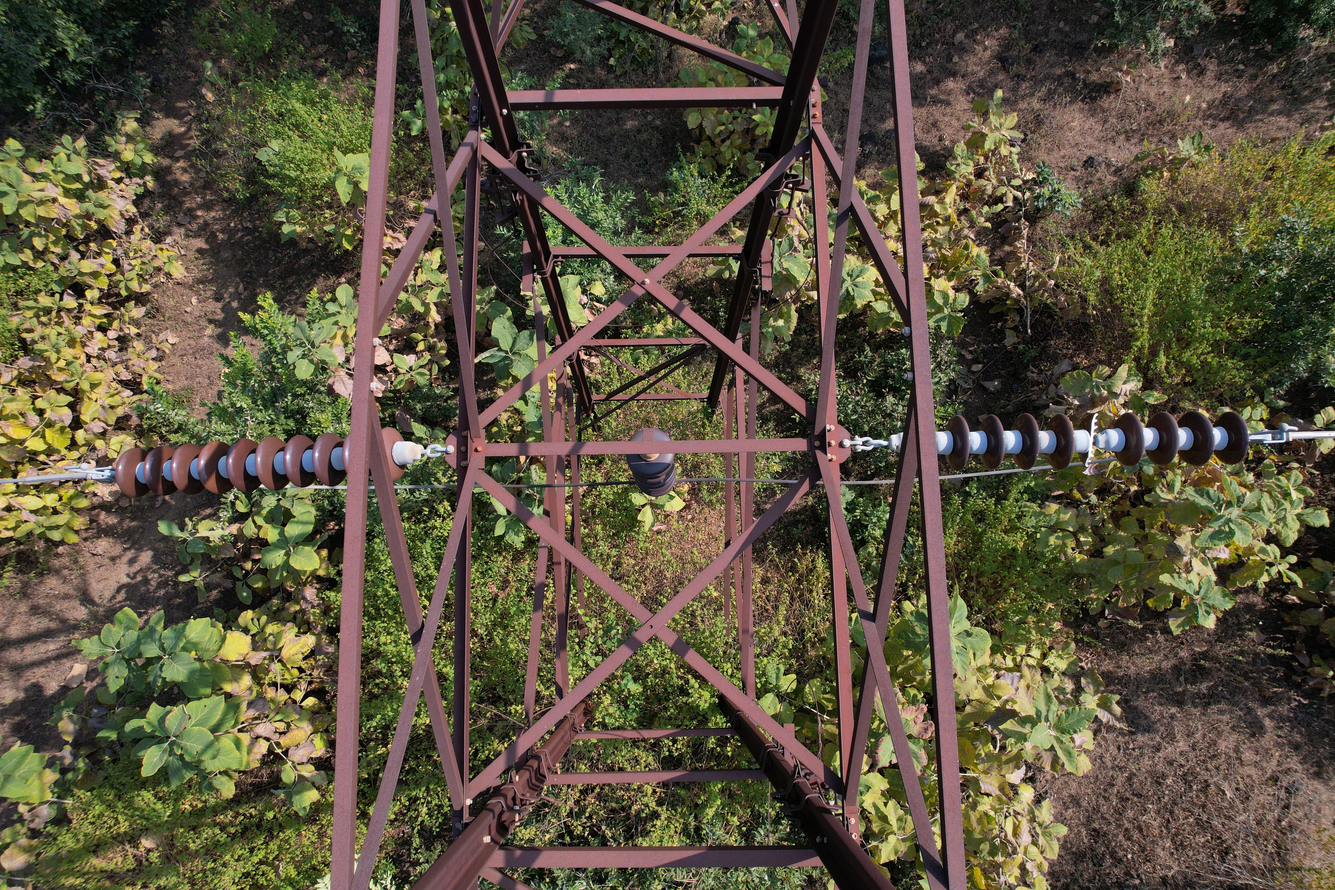broken_insulator: (1079, 411, 1101, 469)
